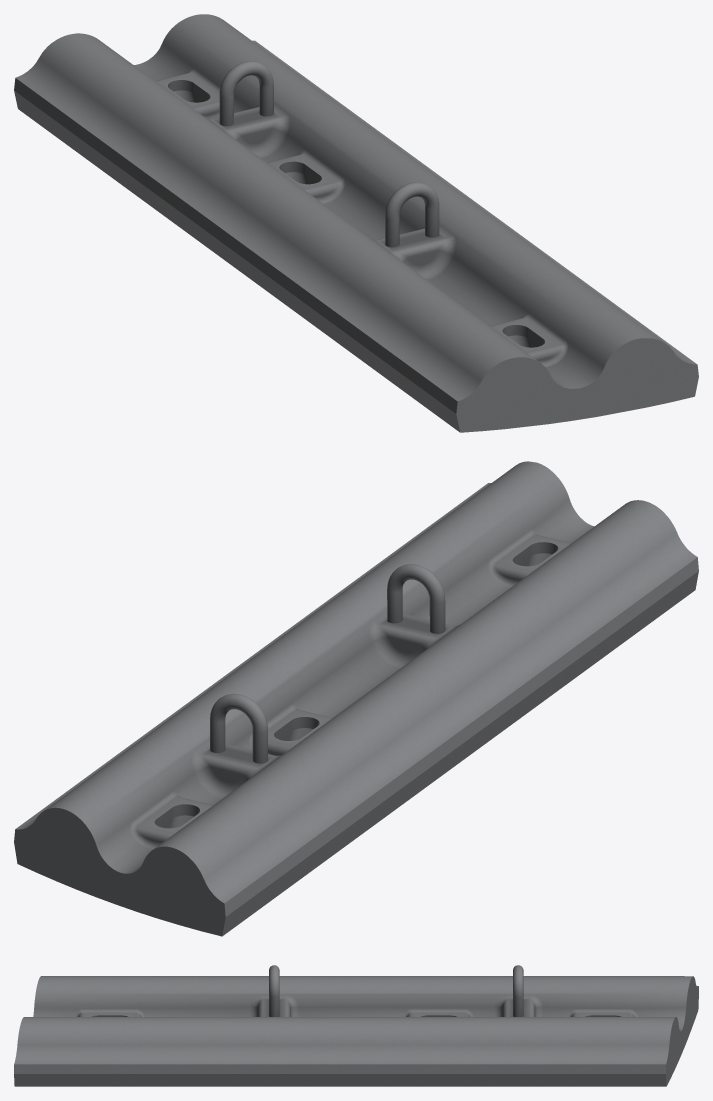
File: ball-shell-liner-steel.glb
The picture shows the model from 3 angles, top to bottom: view 1: azimuth 30°, elevation 25°; view 2: azimuth 150°, elevation 25°; view 3: azimuth 270°, elevation 25°; orthographic projection. The views are drawn at different scales.
Visible parts, largest first — view 1: metal; view 2: metal; view 3: metal.
Part boxes in pixels (x1,y1,x2,y2): metal: (14,14,698,432); metal: (14,461,698,936); metal: (14,965,698,1086).
Size of the model in its own units: 0.4417 by 0.2215 by 1.61.
1 material, 1 textured.
